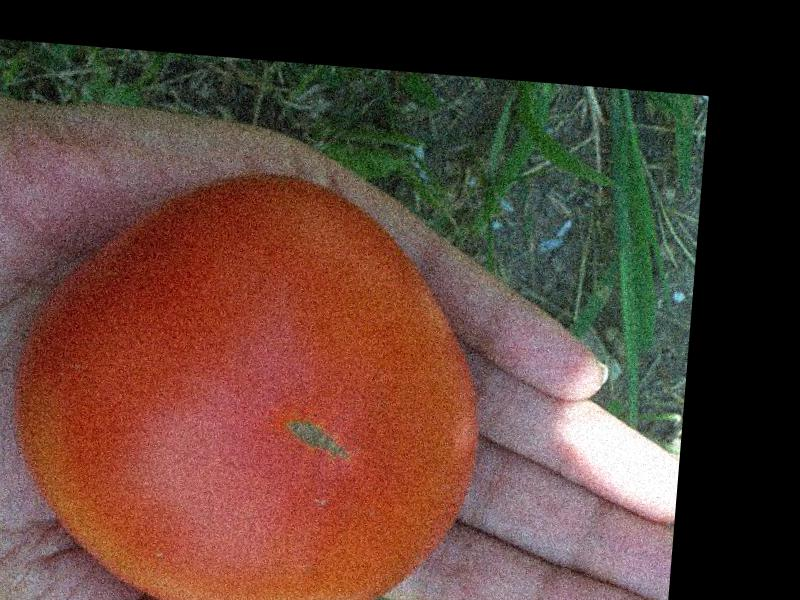Tomato: (4, 155, 496, 600)
